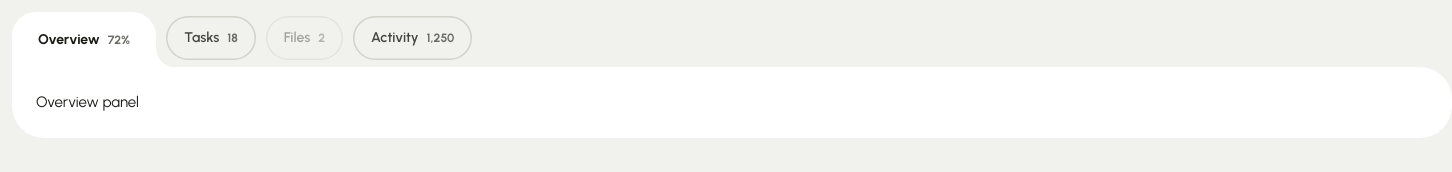
Test: FolderTabsCard › drops the start fillet on the first tab and squares the panel's top-start corner
This screenshot has width=1452, height=172.
What coordinates should you click on to do the following:
click the tab "Tasks 18"
I would click on:
 (211, 38)
Its box is [166, 16, 256, 60].
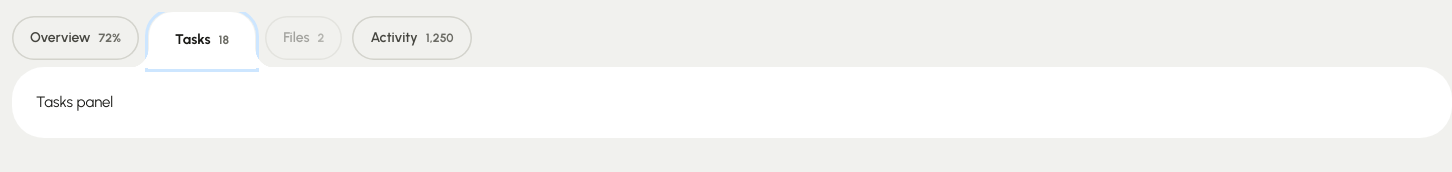
Check: the panel reads "Tasks panel", box [36, 93, 113, 111]
